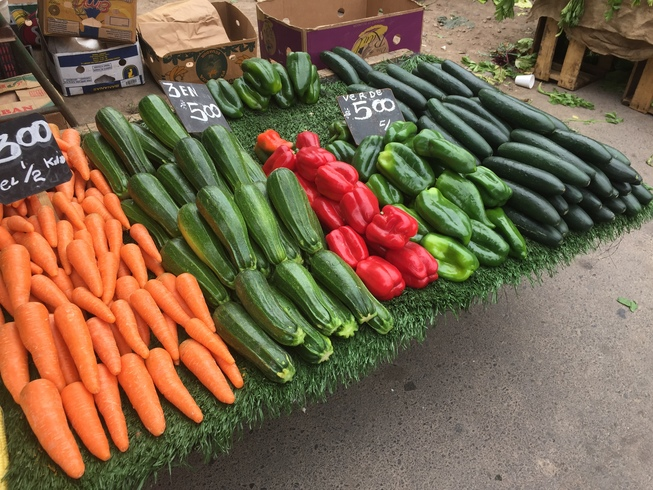precio: (1, 107, 83, 214), (328, 84, 413, 147), (157, 74, 236, 141)
